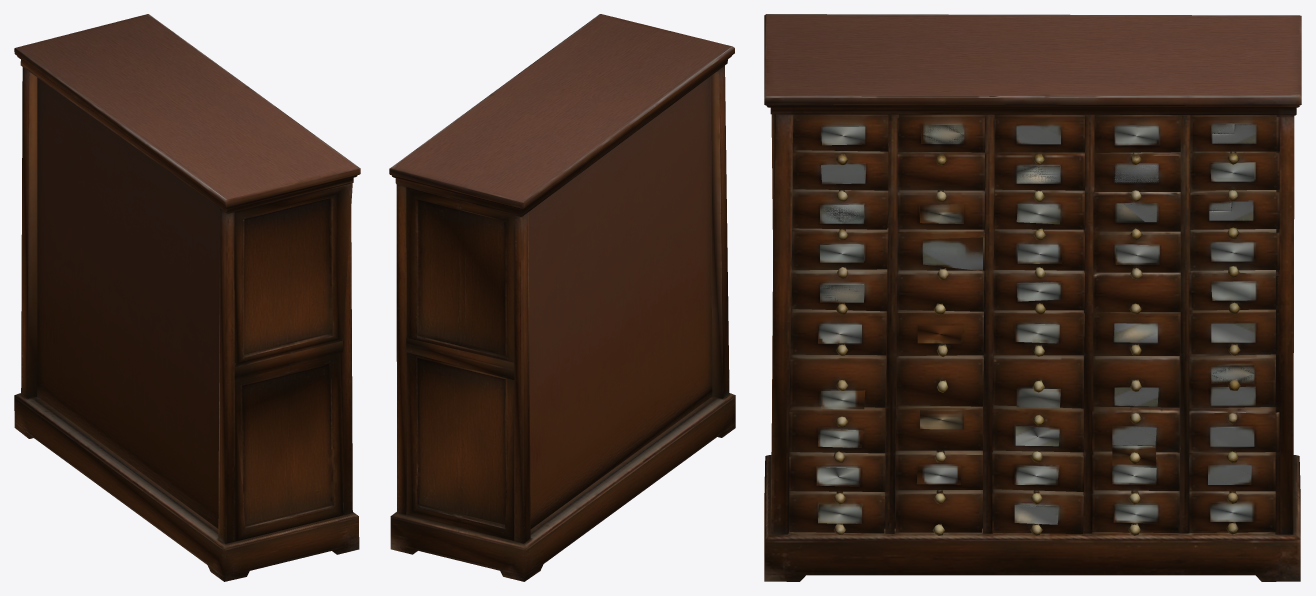
3 renders of one model, left to right at view 1: azimuth 30°, elevation 25°; view 2: azimuth 150°, elevation 25°; view 3: azimuth 270°, elevation 25°, orthographic. The views are drawn at different scales.
Visible parts, largest first — view 1: tripo_node_92e1fb6b-b6b1-4789-9920-8fc09597d9d2; view 2: tripo_node_92e1fb6b-b6b1-4789-9920-8fc09597d9d2; view 3: tripo_node_92e1fb6b-b6b1-4789-9920-8fc09597d9d2.
Boxes of the visible parts, x1,y1,x2,y2 form: tripo_node_92e1fb6b-b6b1-4789-9920-8fc09597d9d2: (14, 14, 360, 581); tripo_node_92e1fb6b-b6b1-4789-9920-8fc09597d9d2: (389, 14, 735, 581); tripo_node_92e1fb6b-b6b1-4789-9920-8fc09597d9d2: (764, 14, 1301, 581).
Size of the model in its own units: 0.3926 by 0.9941 by 0.998.
1 material, 1 textured.
